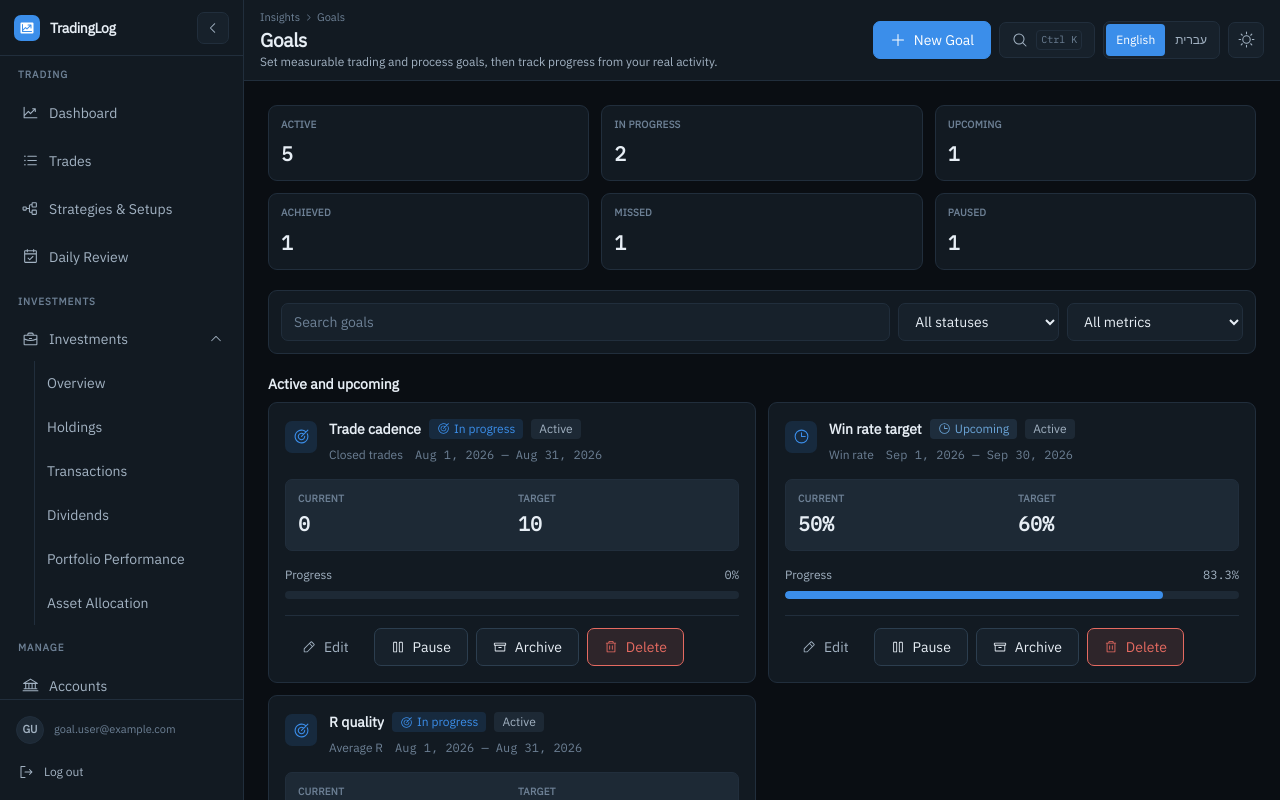
Goals page › enforces percentage bounds and reversed dates without silently swapping them
Click the button "New Goal": point(932, 40) [873, 21, 991, 59]
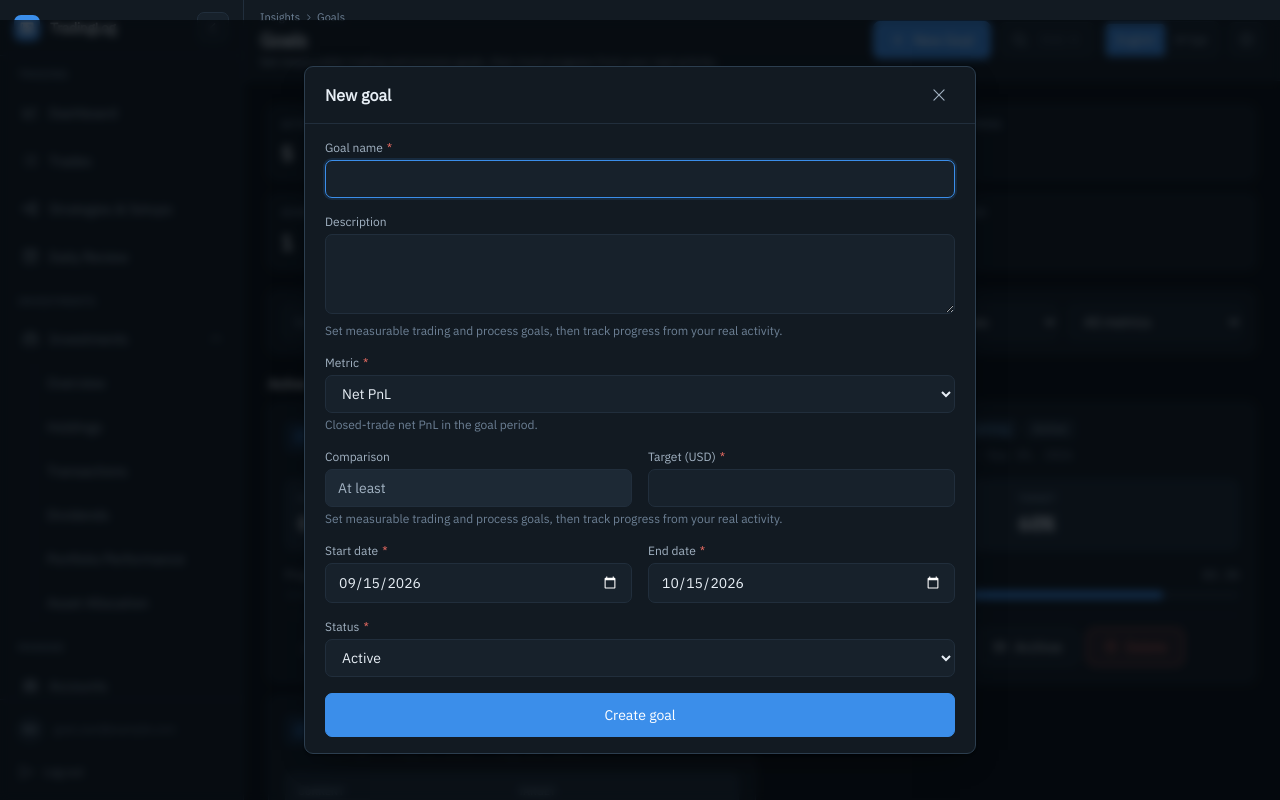
In the field labelled "Goal name*": point(640, 179) [325, 160, 955, 198], type "Win quality"
Select "Win rate" in the dropdown labelled "Metric*": point(640, 394) [325, 375, 955, 413]
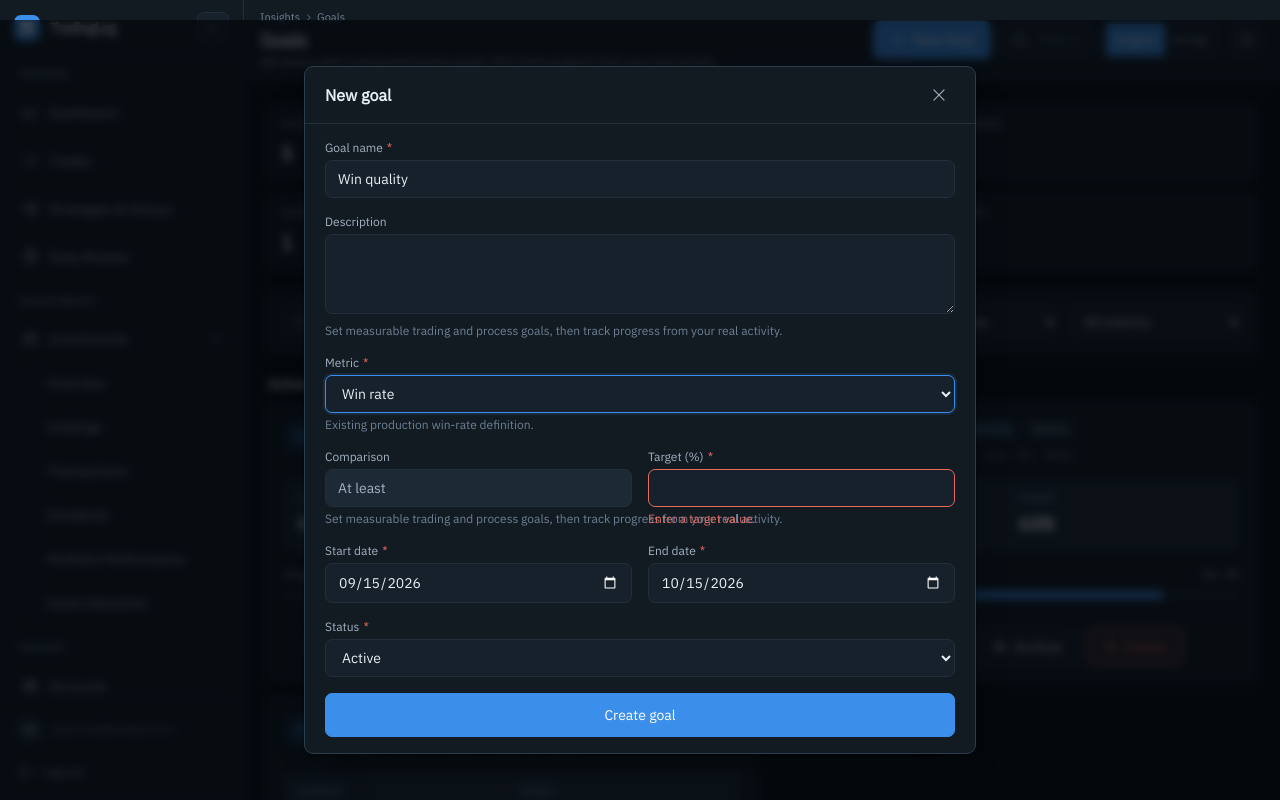
In the number field labelled "Target (%)*": point(802, 488) [648, 469, 955, 507], type "101"
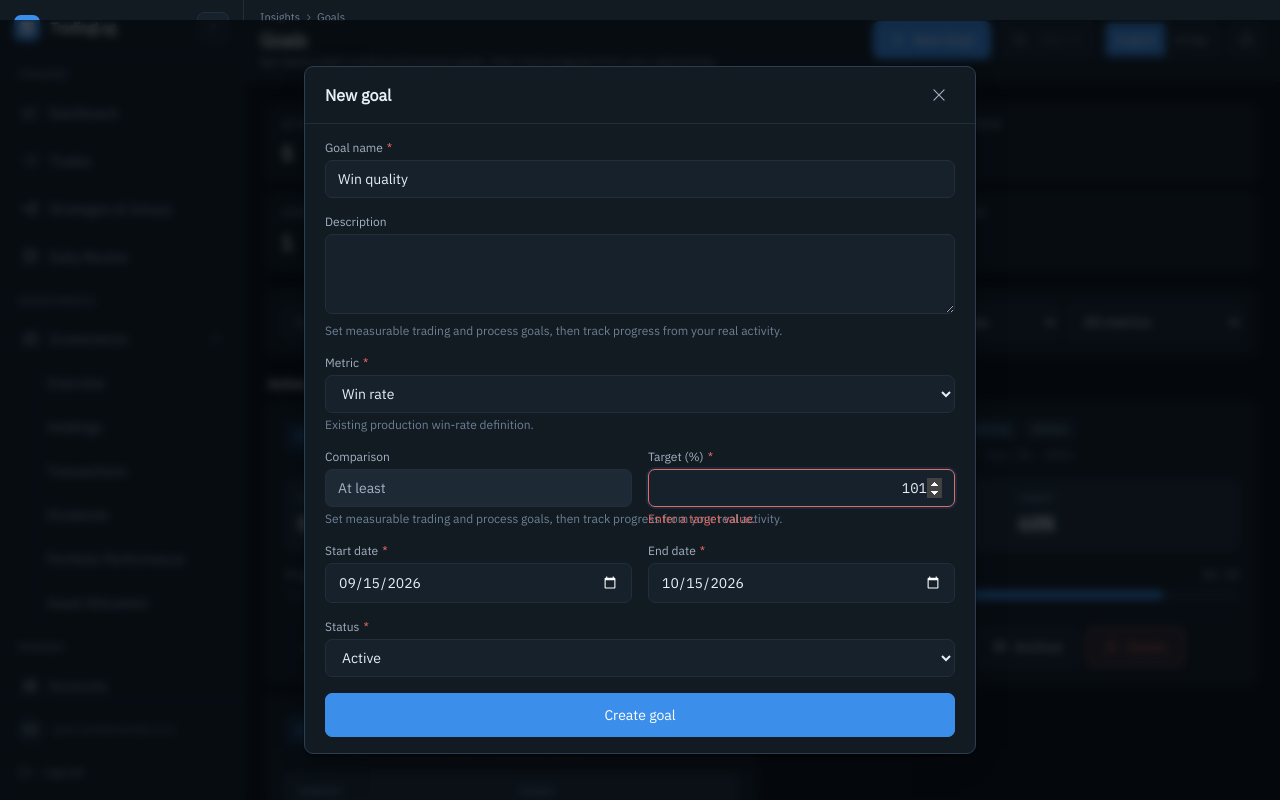
In the date field labelled "Start date*": point(478, 583) [325, 563, 632, 603], type "2026-09-02"
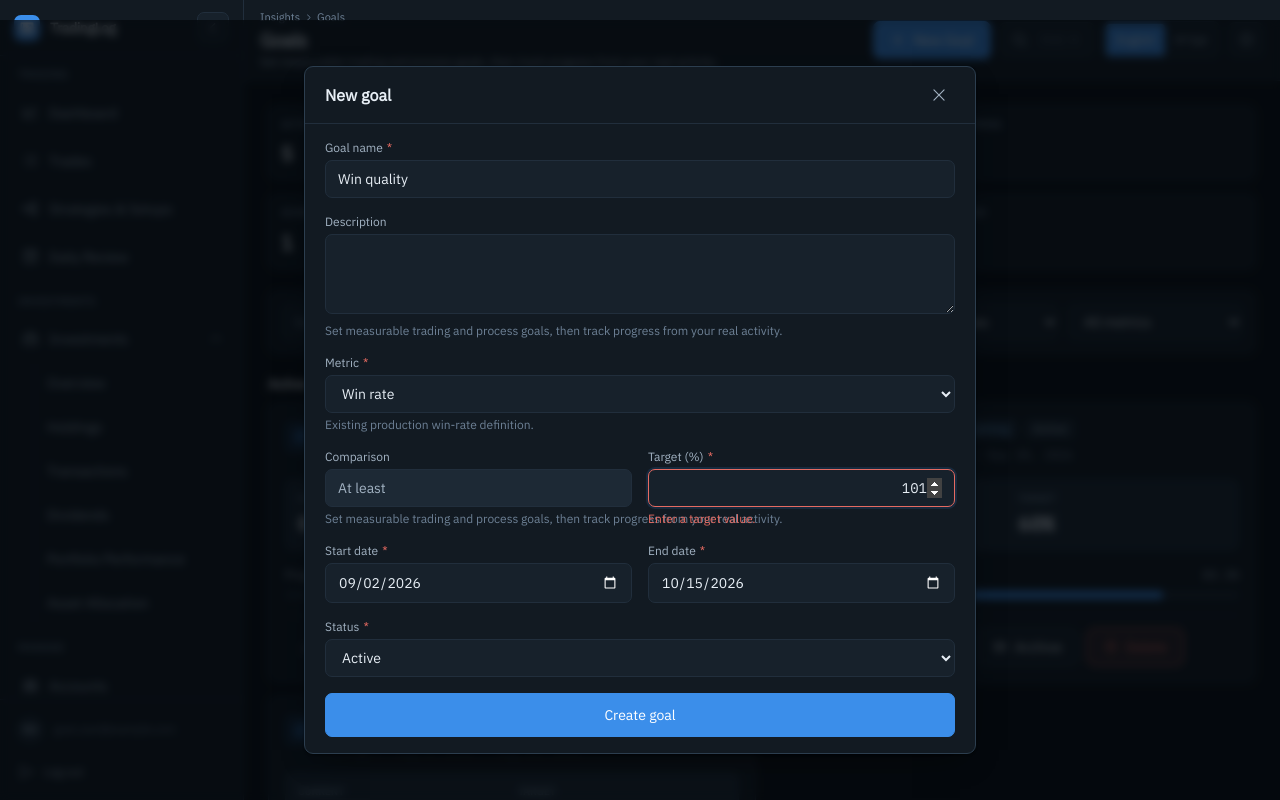
In the date field labelled "End date*": point(802, 583) [648, 563, 955, 603], type "2026-09-01"
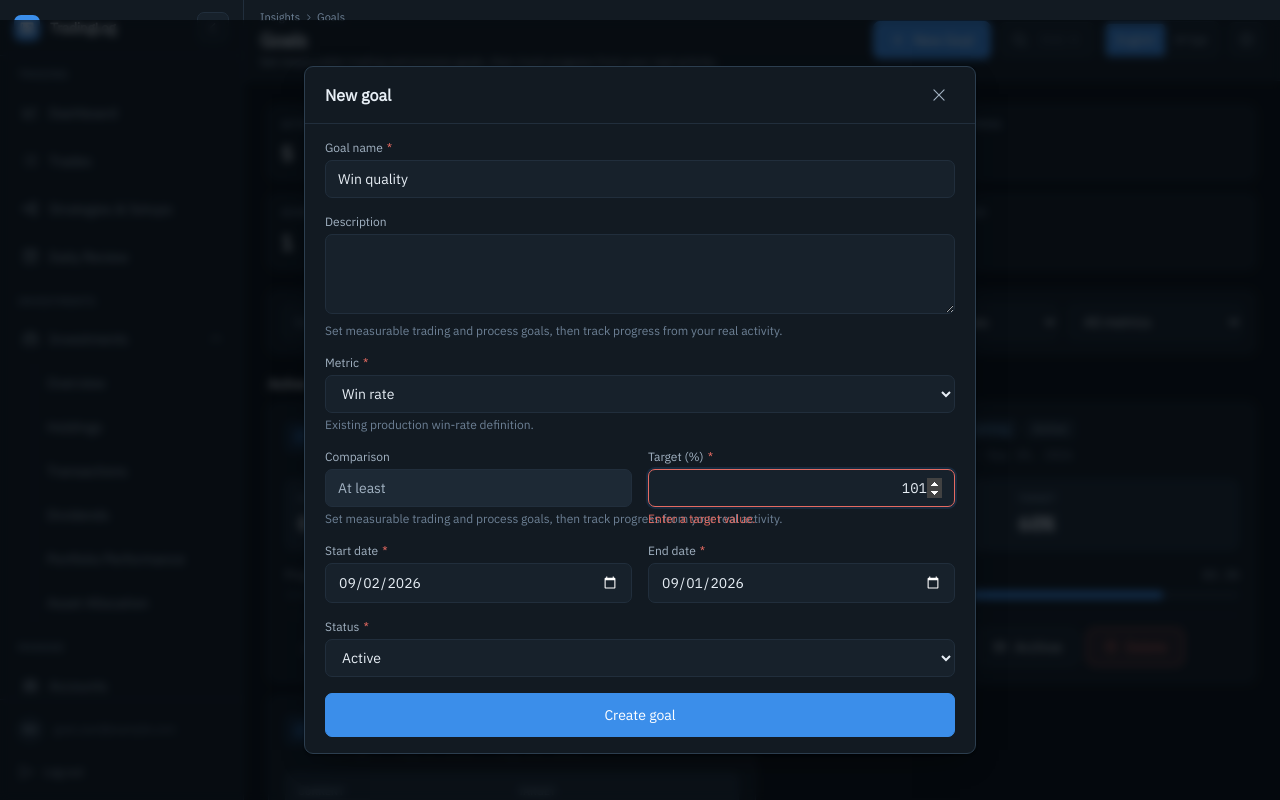
Click the button "Create goal": point(640, 715) [325, 693, 955, 737]
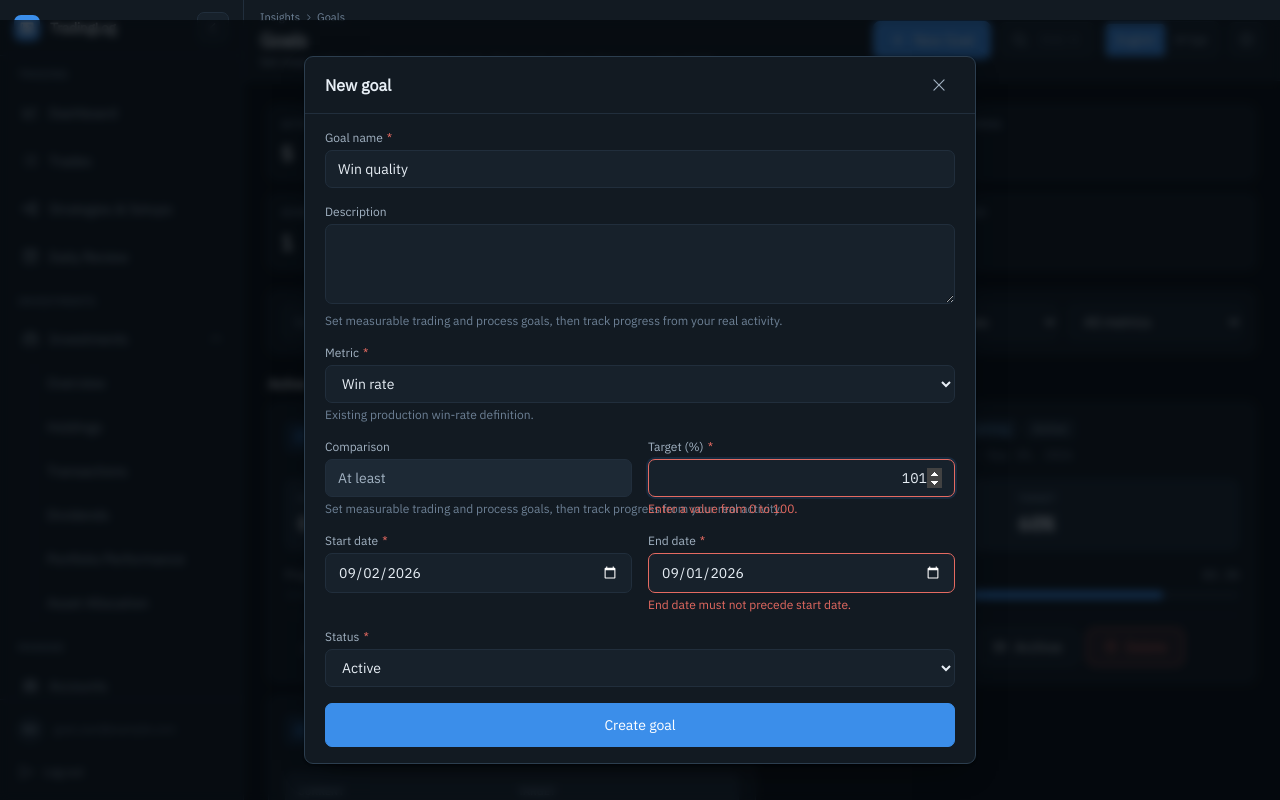
expect the text "Enter a value from 0 to 100." is shown: met, box [648, 501, 798, 516]
expect the text "End date must not precede start date." is shown: met, box [648, 597, 851, 612]
